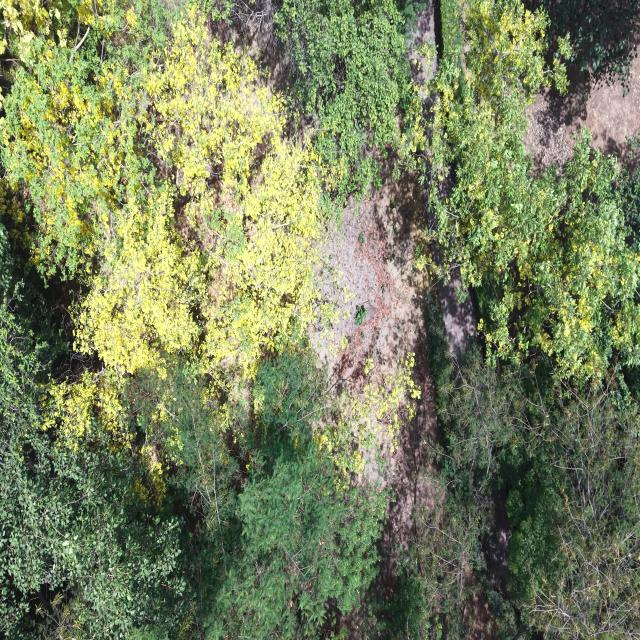DRY_AREA: (310, 158, 474, 638), (312, 158, 475, 638), (311, 159, 475, 602), (317, 159, 474, 602), (317, 161, 475, 601), (326, 164, 475, 601), (312, 159, 442, 638), (309, 157, 437, 638), (312, 160, 437, 638), (343, 177, 475, 599), (311, 159, 437, 601), (310, 156, 436, 574), (314, 158, 474, 384), (310, 154, 431, 393), (311, 155, 429, 392), (313, 163, 428, 393), (317, 160, 425, 383), (314, 161, 426, 375), (325, 164, 426, 363), (330, 163, 431, 349), (523, 58, 639, 174), (523, 58, 639, 173), (523, 59, 639, 173), (523, 57, 639, 170), (523, 59, 639, 172), (327, 196, 406, 361), (524, 59, 639, 171), (524, 59, 639, 170), (329, 238, 401, 350), (564, 58, 639, 159), (234, 16, 292, 94), (523, 92, 569, 172), (435, 268, 476, 357), (408, 0, 436, 84), (409, 2, 435, 84), (464, 589, 496, 639)
VEGETATION_TREE: (0, 0, 639, 639), (0, 2, 384, 638), (415, 0, 639, 637), (1, 9, 321, 375), (428, 0, 639, 380), (0, 239, 190, 638), (421, 354, 639, 637), (207, 350, 385, 638), (211, 0, 424, 208), (273, 0, 423, 204), (541, 0, 639, 91), (620, 137, 639, 250)
